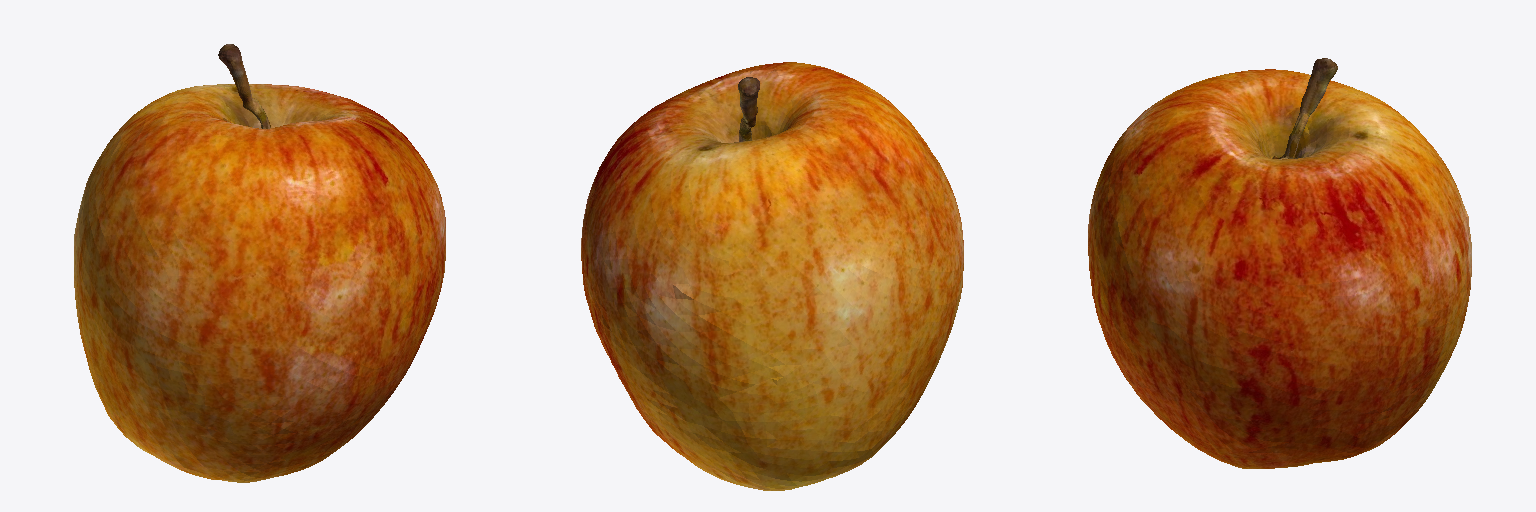
3 renders of one model, left to right at view 1: azimuth 30°, elevation 25°; view 2: azimuth 150°, elevation 25°; view 3: azimuth 270°, elevation 25°, orthographic.
Visible parts, largest first — view 1: objapple; view 2: objapple; view 3: objapple.
Boxes of the visible parts, box(x1,y1,x2,y2) form: objapple: box(74, 44, 445, 482); objapple: box(581, 62, 963, 490); objapple: box(1088, 58, 1471, 468).
Bounding box in the file's own units: 66.34 × 76.39 × 68.08.
1 materials, 1 textured.